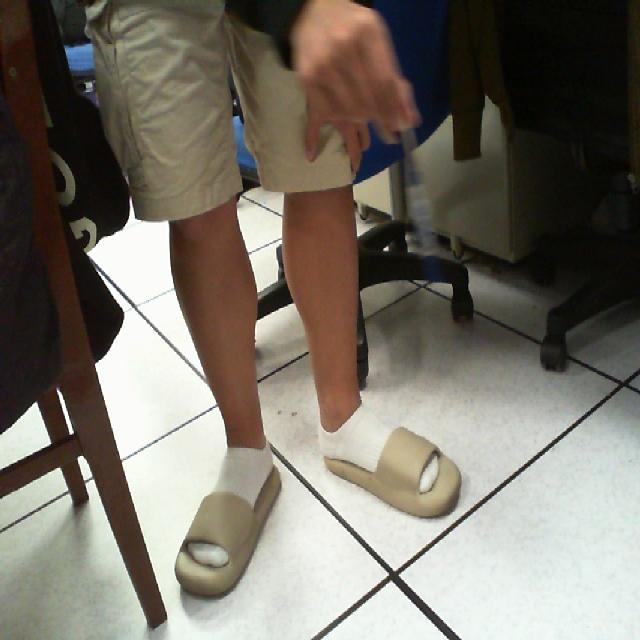Pen: (388, 109, 452, 298)
